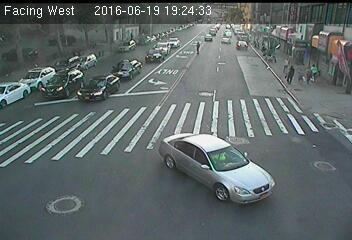neg: (294, 37, 310, 58), (93, 44, 108, 65), (213, 151, 228, 171), (281, 32, 296, 51), (254, 33, 269, 52), (265, 54, 276, 69)
pos: (284, 63, 302, 87), (279, 54, 295, 76), (301, 63, 317, 85), (191, 37, 206, 57), (308, 61, 323, 81)
